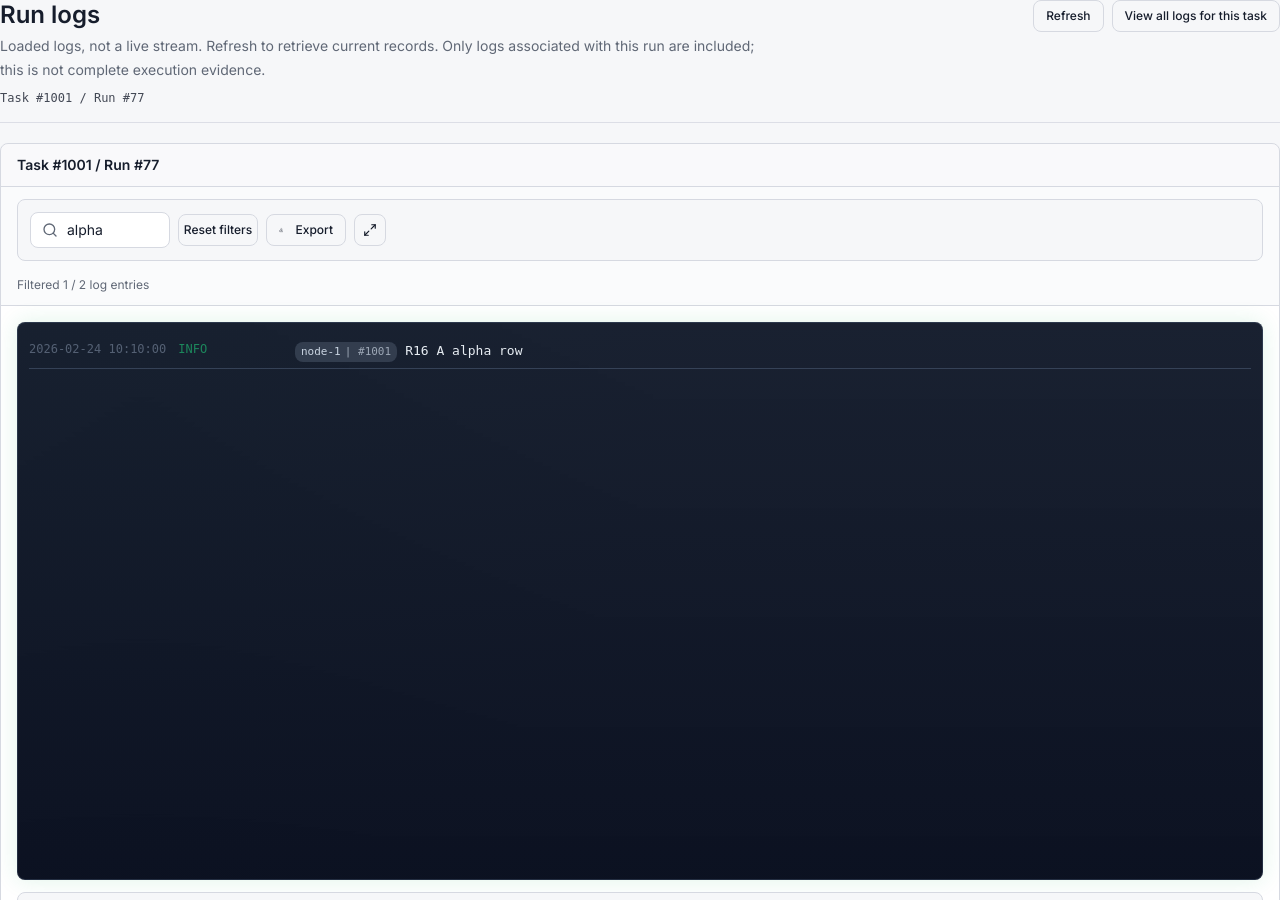
LogsPage exact run › 导出与全屏只使用已加载且关键词筛选后的精确行，并标明 Task/Run 快照
Check: the text "R16 A alpha row" is shown, box [405,342,522,358]
Click the button "Export" at (306, 230), box [266,214,346,246]
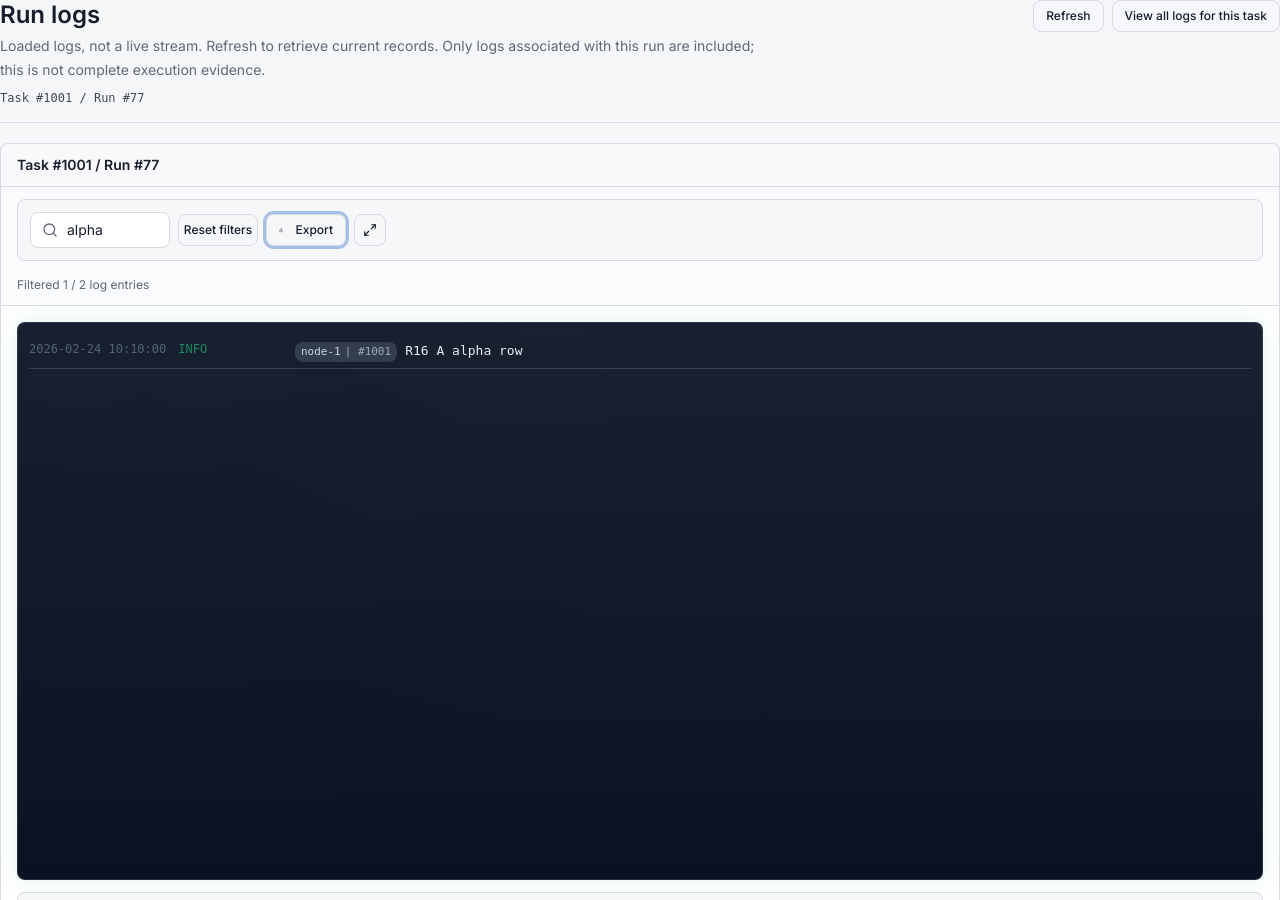
Click the button named "View logs fullscreen" at (370, 230), box [354,214,386,246]
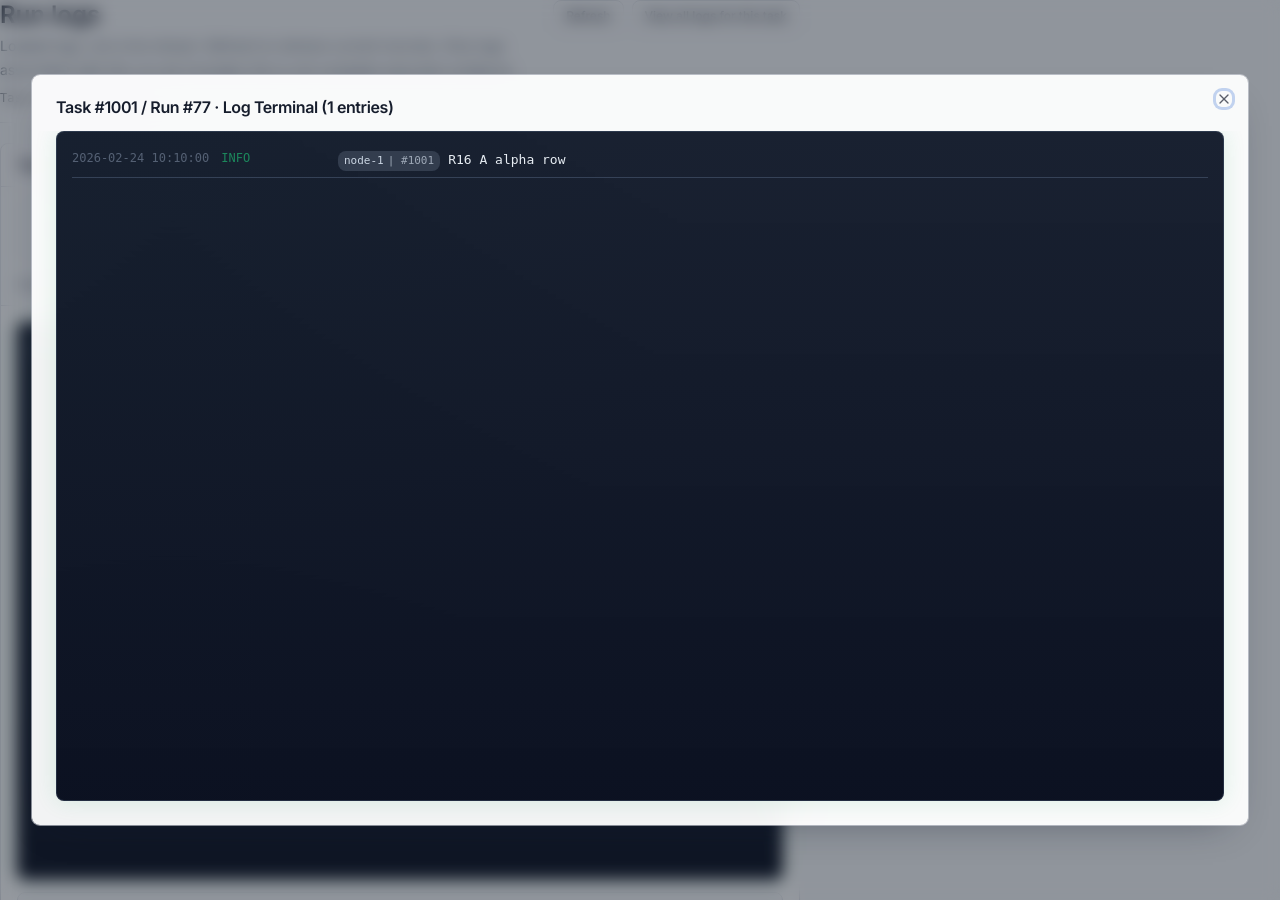
Check: the text "R16 A alpha row" is shown, box [448,152,566,167]
